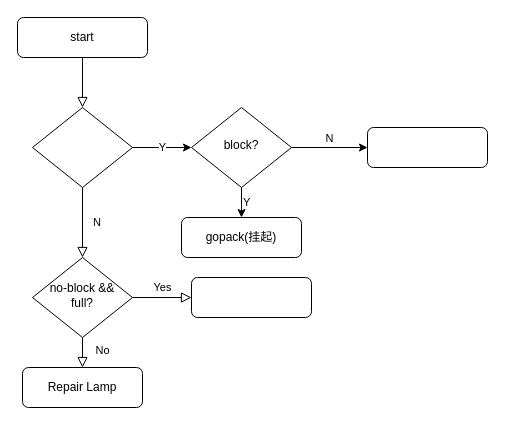
Image size: 505x425. Some labels were removed from this diagram. Each missing label, with the centre of its shape:
channel is nil?: (x=82, y=147)
Replace Bulb: (x=251, y=297)
return false: (x=427, y=147)
